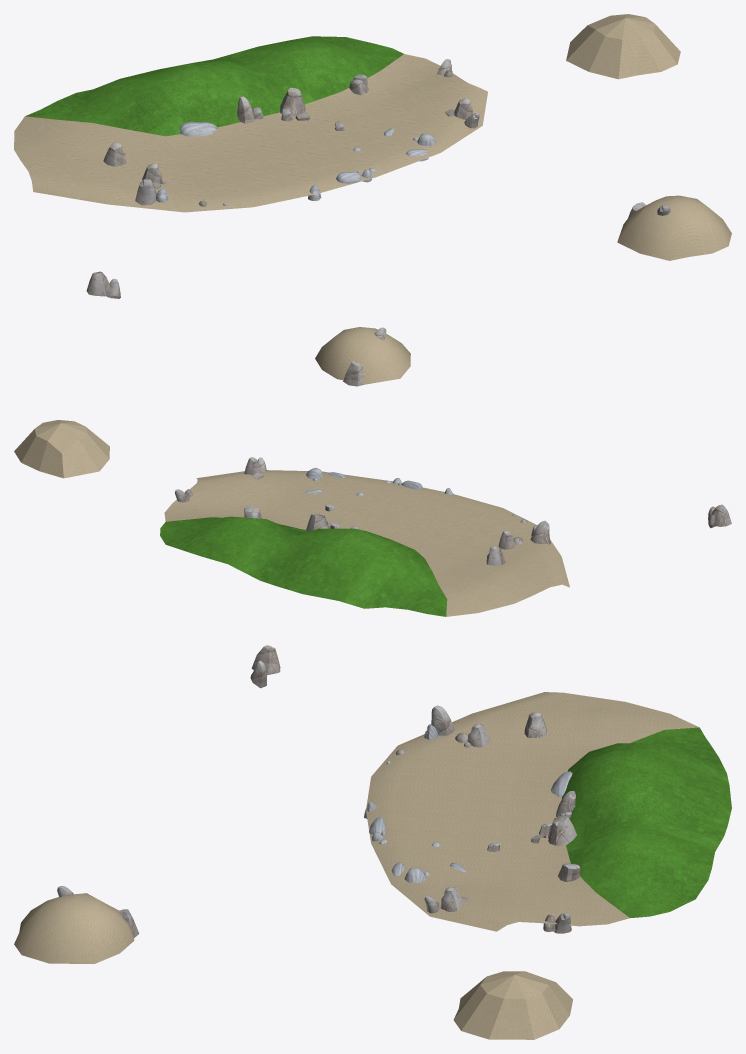
The model's file is dimian.FBX.
3 views of the same model, one above another, from view 1: azimuth 30°, elevation 25°; view 2: azimuth 150°, elevation 25°; view 3: azimuth 270°, elevation 25° (orthographic). The views are drawn at different scales.
Parts seen in each view (by area): view 1: Box002, dimian, Island_01, Island_002; view 2: Box002, dimian, Island_01, Island_002; view 3: Box002, dimian, Island_01, Island_002.
Part boxes in pixels (x1=…): Box002: x1=14, y1=54, x2=487, y2=212; dimian: x1=25, y1=36, x2=646, y2=296; Island_01: x1=566, y1=14, x2=680, y2=79; Island_002: x1=617, y1=195, x2=731, y2=260; Box002: x1=164, y1=470, x2=569, y2=616; dimian: x1=160, y1=361, x2=731, y2=616; Island_01: x1=14, y1=420, x2=109, y2=478; Island_002: x1=315, y1=327, x2=410, y2=384; Box002: x1=366, y1=692, x2=698, y2=931; dimian: x1=118, y1=645, x2=731, y2=937; Island_01: x1=453, y1=971, x2=572, y2=1039; Island_002: x1=14, y1=893, x2=134, y2=963.
Size of the model in its own units: 607 by 43.42 by 486.
